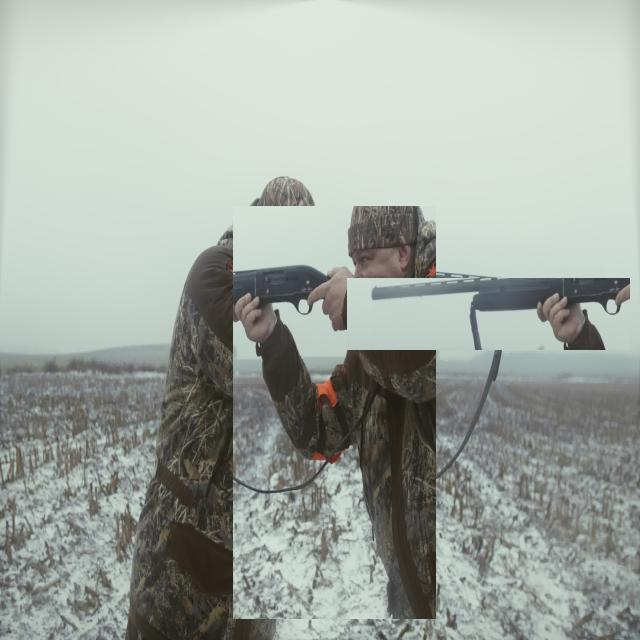poacher: (233, 206, 436, 619)
weapon: (347, 278, 630, 350)
